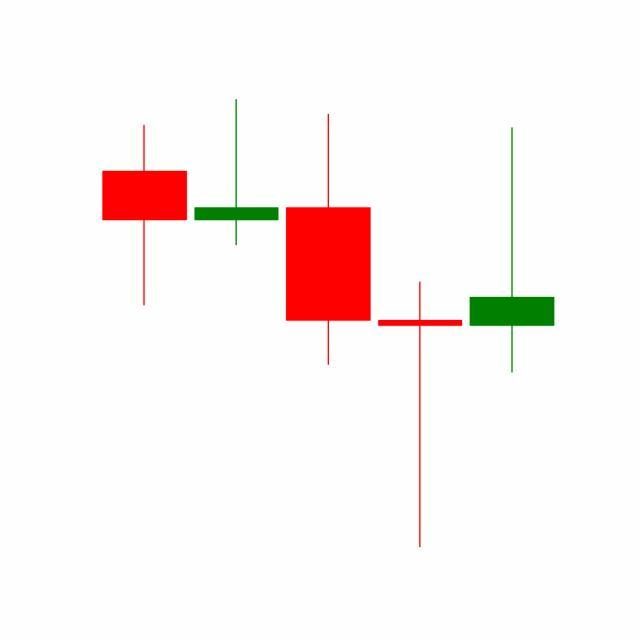Spinning Top: (466, 125, 559, 376)
